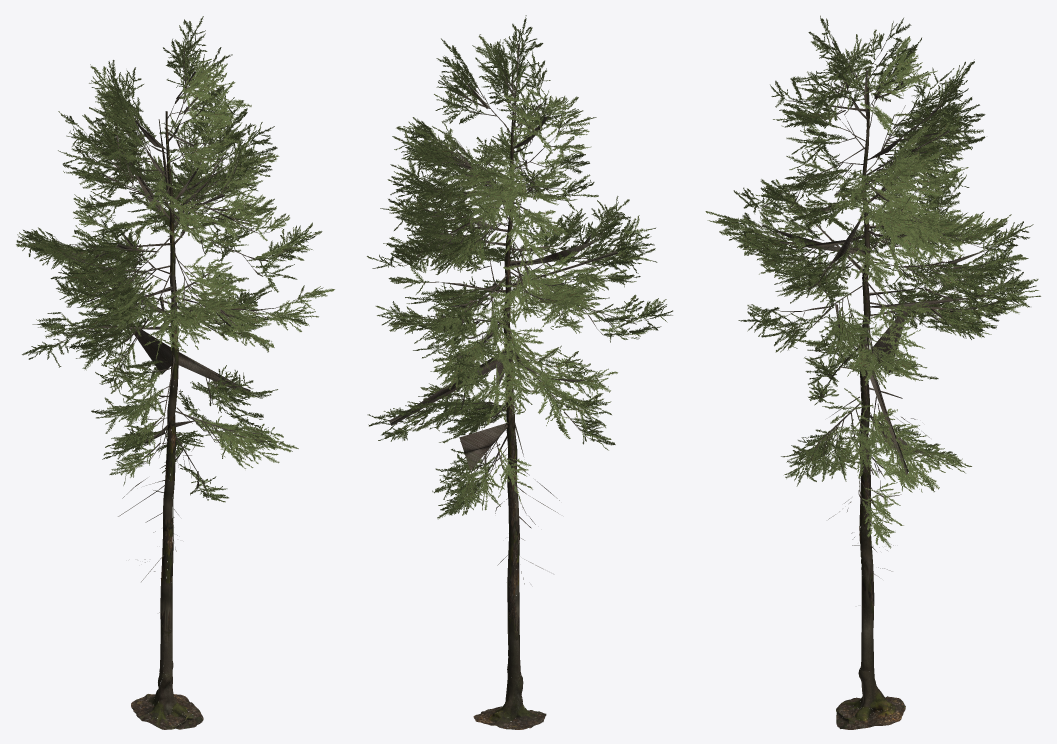
File: fir-tree-01-b.glb
3 renders of one model, left to right at view 1: azimuth 30°, elevation 25°; view 2: azimuth 150°, elevation 25°; view 3: azimuth 270°, elevation 25°, orthographic. The views are drawn at different scales.
Parts seen in each view (by area): view 1: fir_tree_01_b; view 2: fir_tree_01_b; view 3: fir_tree_01_b.
Boxes of the visible parts, x1,y1,x2,y2 form: fir_tree_01_b: (16,16,334,729); fir_tree_01_b: (367,15,672,729); fir_tree_01_b: (705,15,1040,729).
Bounding box in the file's own units: 5.65 × 14.06 × 6.08.
3 materials, 3 textured.
